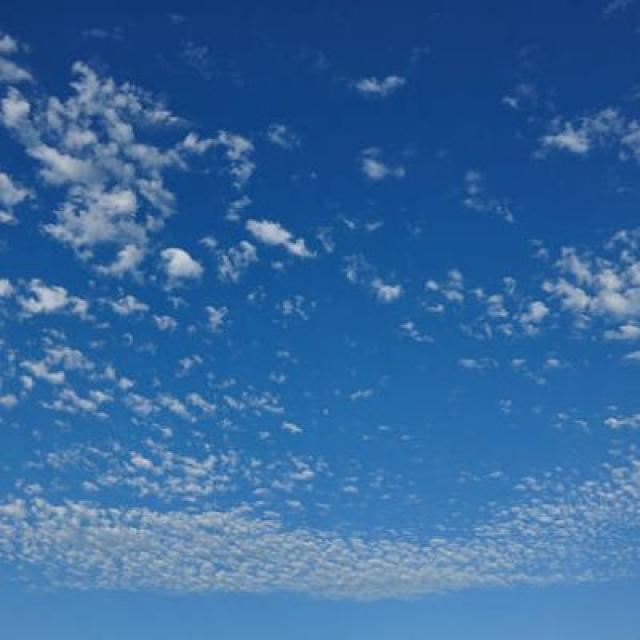Ac: (1, 62, 640, 596)
